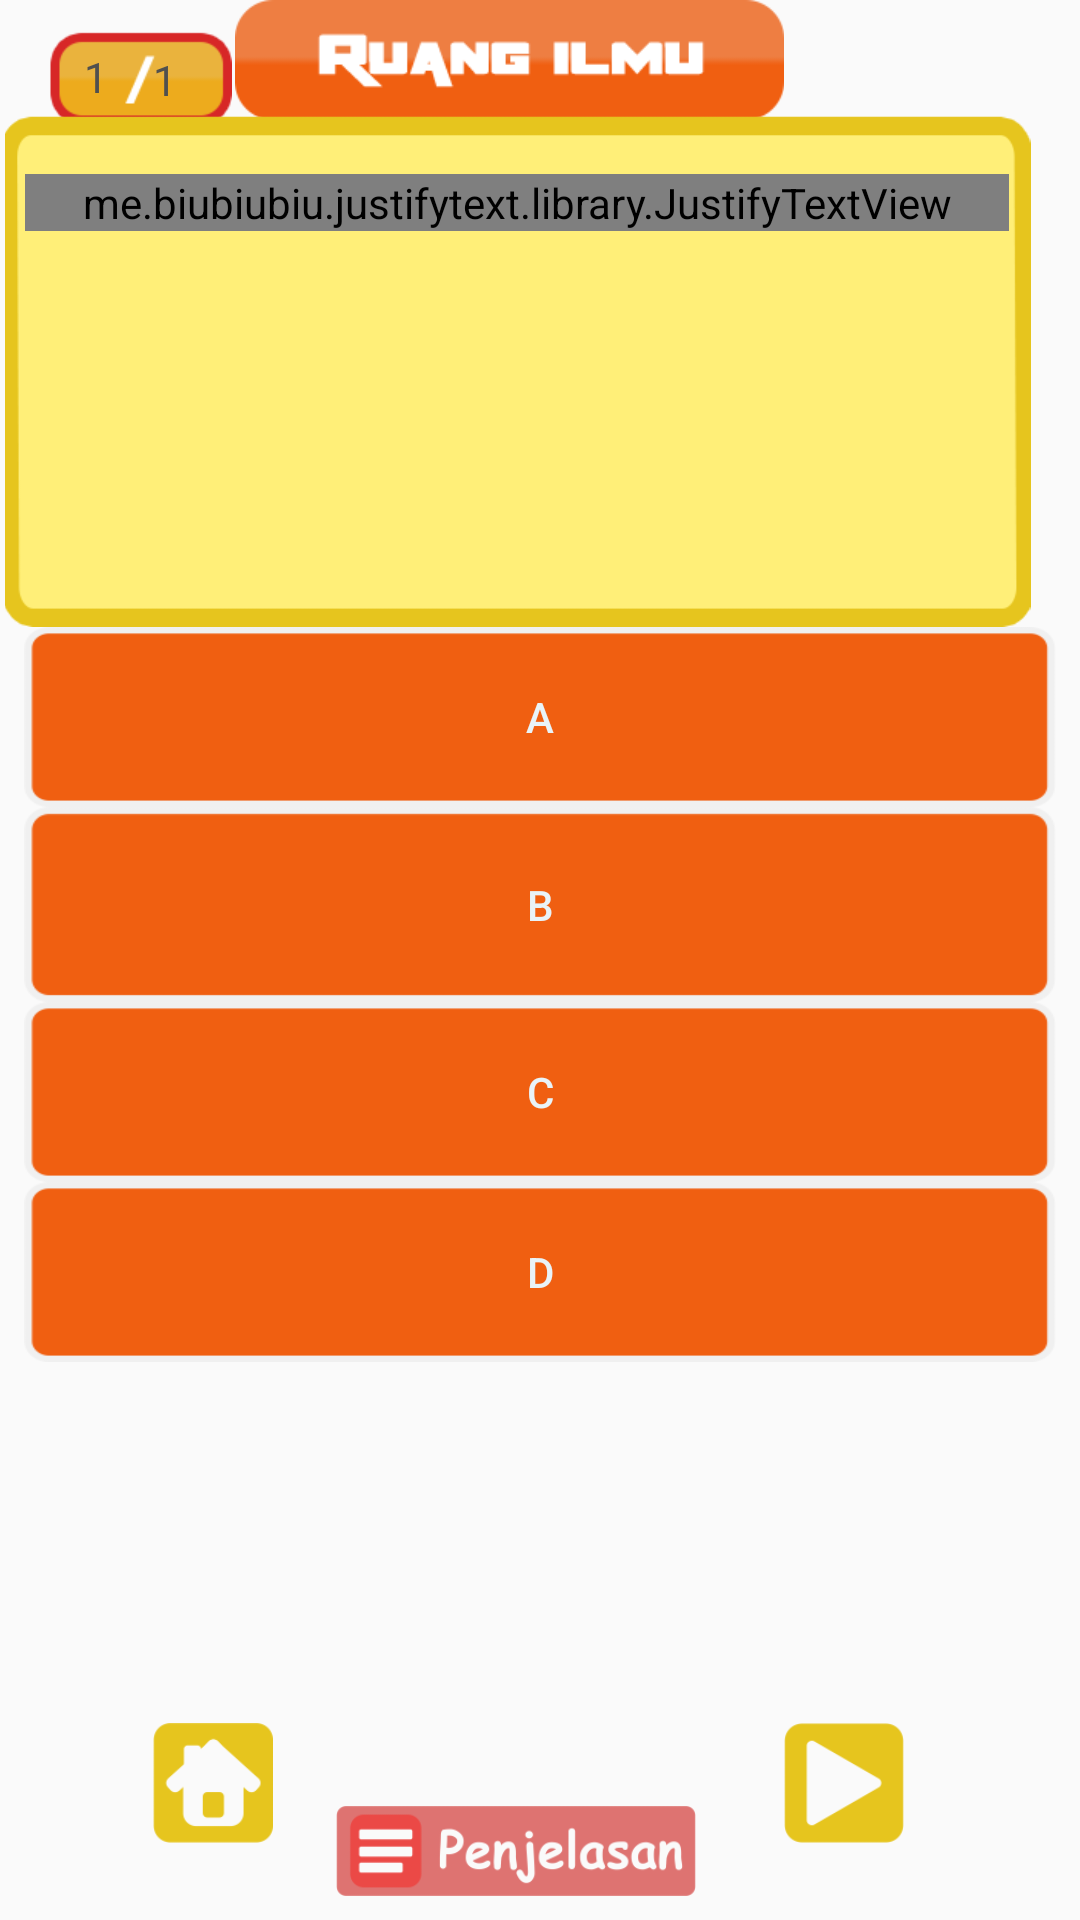

Locate icon controls on the screen. Image size 1080*1920, boxes as (x1, y1, x2, y2).
lanjut: (784, 1723, 904, 1843)
rumah: (153, 1723, 273, 1843)
